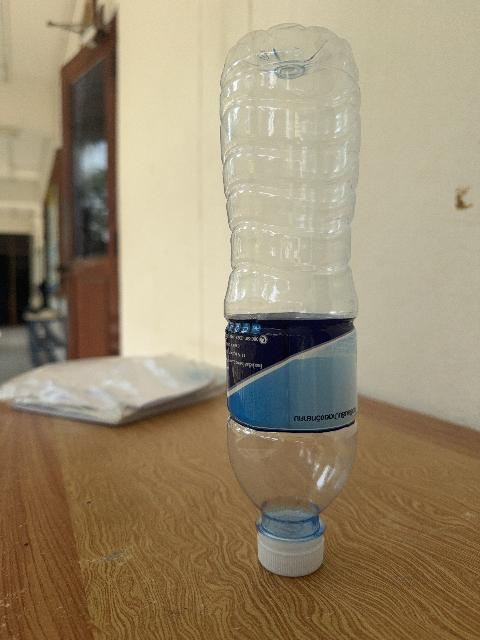bottle: (221, 25, 360, 576)
